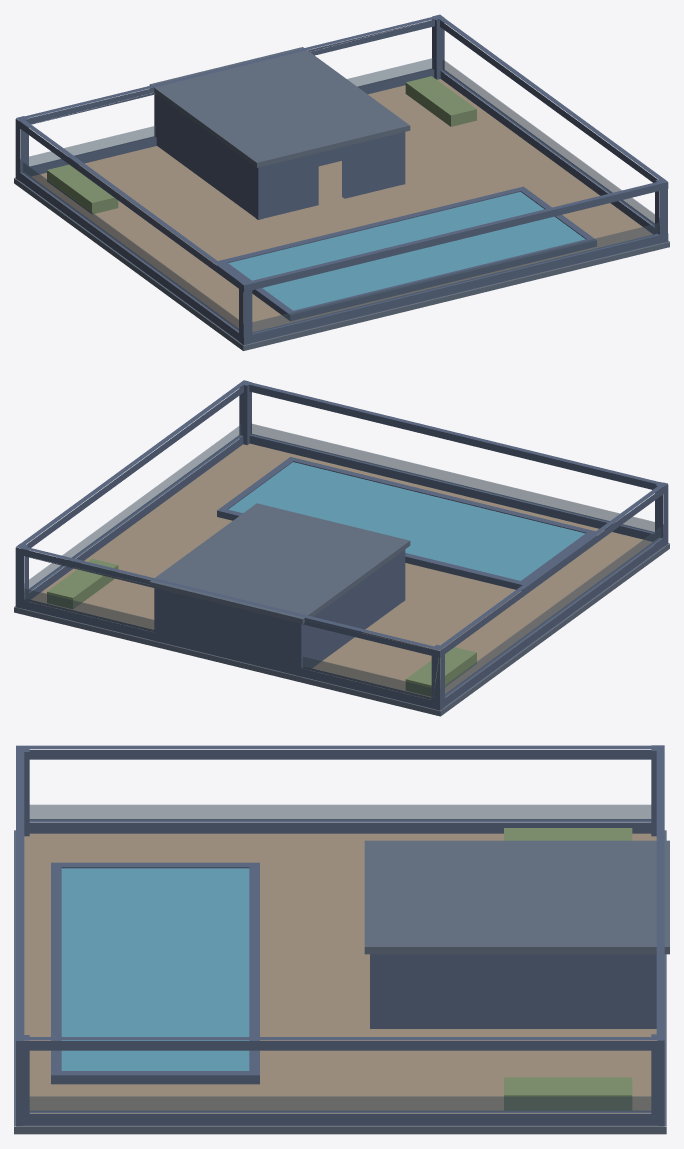
The model's file is office-roof-b.shaft-v1.lod1.glb.
3 renders of one model, top to bottom at view 1: azimuth 30°, elevation 25°; view 2: azimuth 150°, elevation 25°; view 3: azimuth 270°, elevation 25°, orthographic. The views are drawn at different scales.
Parts seen in each view (by area): view 1: office-roof-b; view 2: office-roof-b; view 3: office-roof-b.
Part boxes in pixels (x1,y1,x2,y2): office-roof-b: (14,14,669,350); office-roof-b: (14,380,669,716); office-roof-b: (14,745,669,1134).
Bounding box in the file's own units: 26.16 × 3.86 × 24.48.
